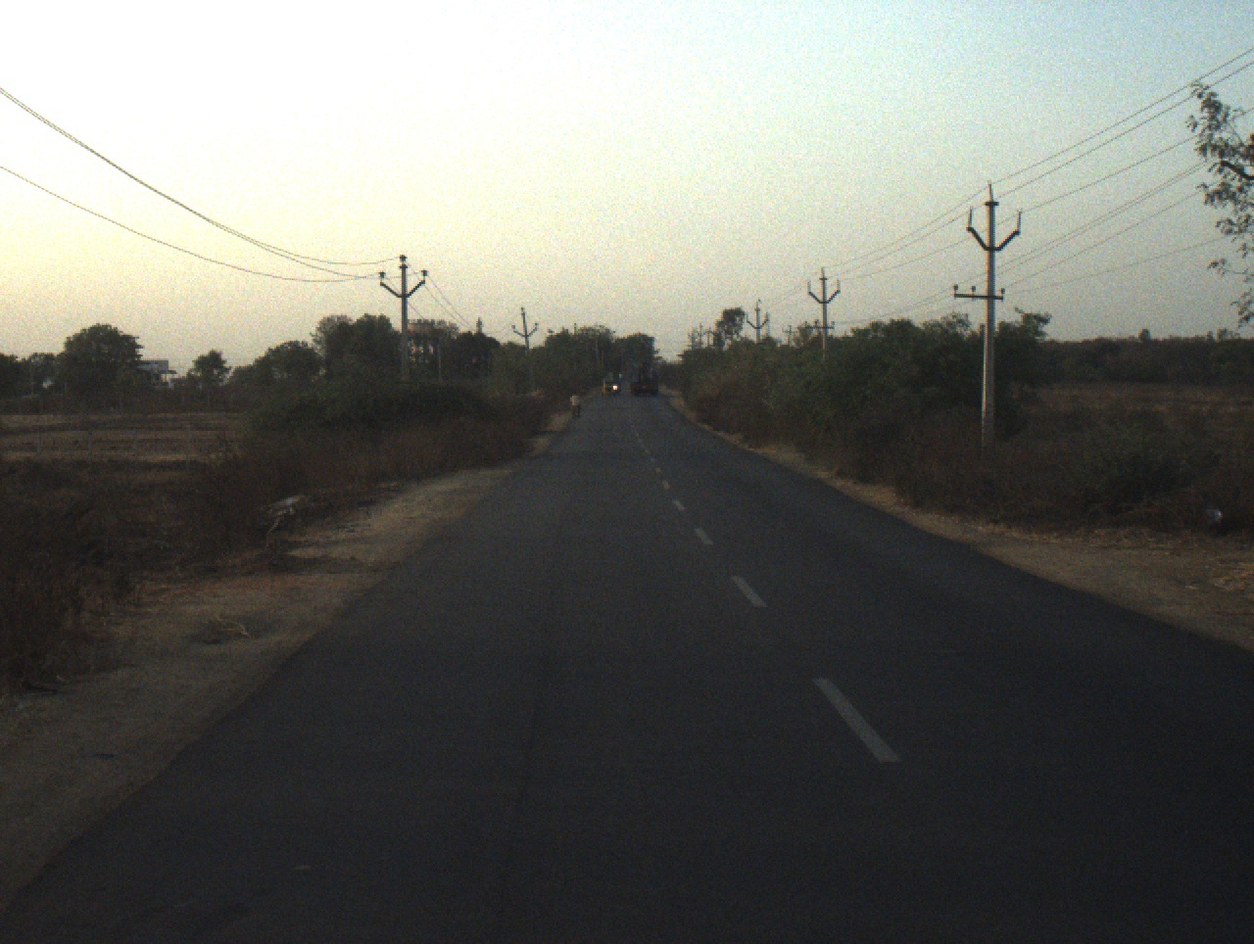autorickshaw: (601, 378, 618, 398)
bicycle: (570, 404, 579, 423)
rider: (569, 390, 582, 419)
vehicle fallback: (626, 357, 661, 397)
